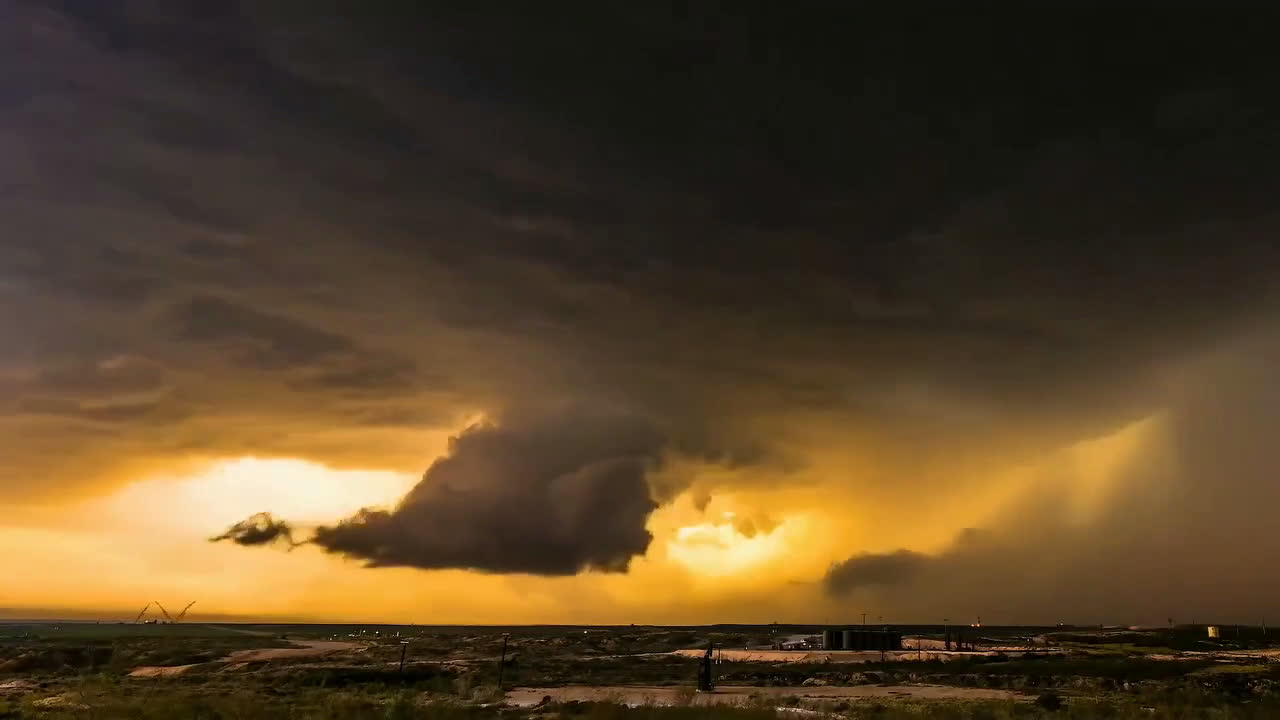FFD: (809, 372, 1280, 625)
RFD: (505, 571, 639, 626)
mesocyclone: (173, 0, 1161, 506)
wall cloud: (209, 403, 812, 576)
